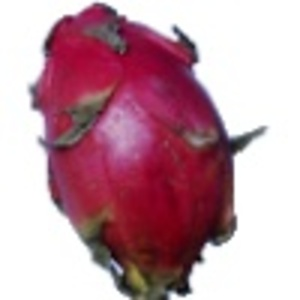pitaia: (29, 1, 267, 300)
